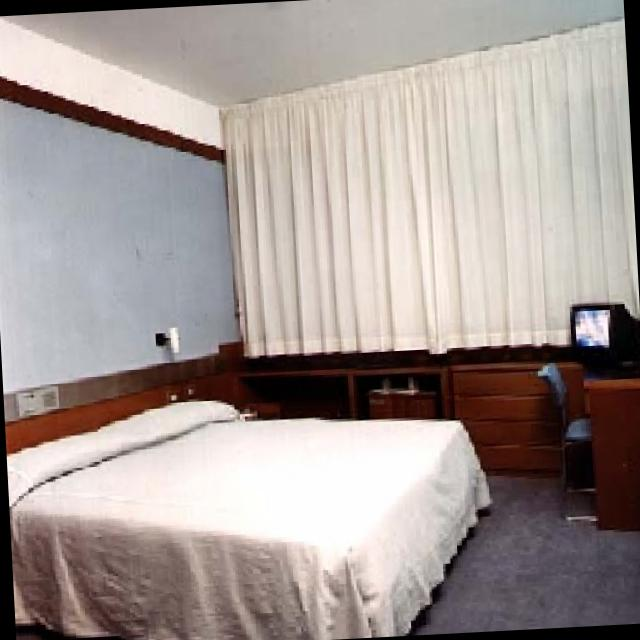bed -occluded-: (11, 395, 495, 640)
cabinet door: (249, 353, 452, 413)
ceiling beam: (4, 0, 625, 107)
chair -occluded-: (540, 363, 596, 521)
curtain crop: (223, 16, 640, 354), (0, 96, 243, 386)
desk calendar: (583, 369, 640, 531)
dresser: (458, 356, 565, 466)
lamp crop: (158, 325, 183, 350)
television cabinet: (577, 299, 640, 373)
